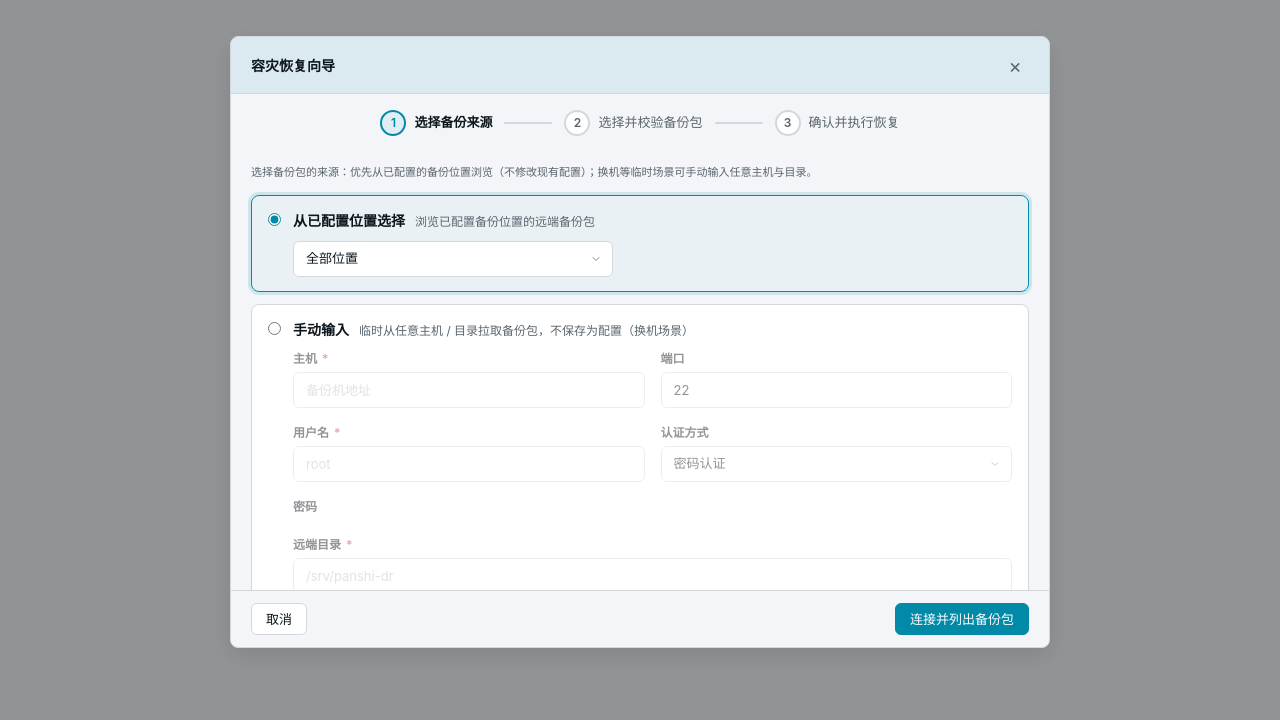
it: DbBackupRestoreWizard 备份来源（多目标） › 全部位置校验：多位置副本先弹来源选择（默认首项），确认后 verify 载荷从包的 present_in 解析具体位置 target_id（null 会 422）
The width and height of the screenshot is (1280, 720).
Click the button "连接并列出备份包": (962, 619) left=895, top=603, right=1029, bottom=635
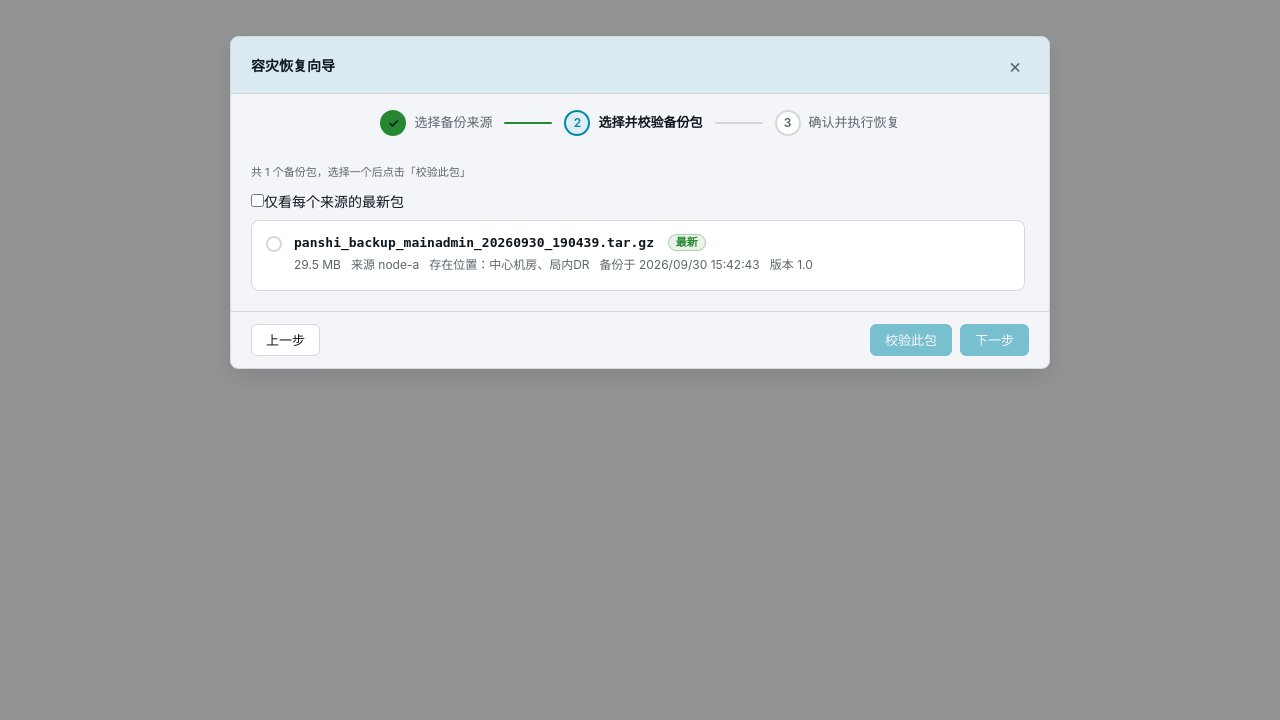
Click the radio button with class "dbw-pkg": (638, 255) left=251, top=220, right=1025, bottom=291
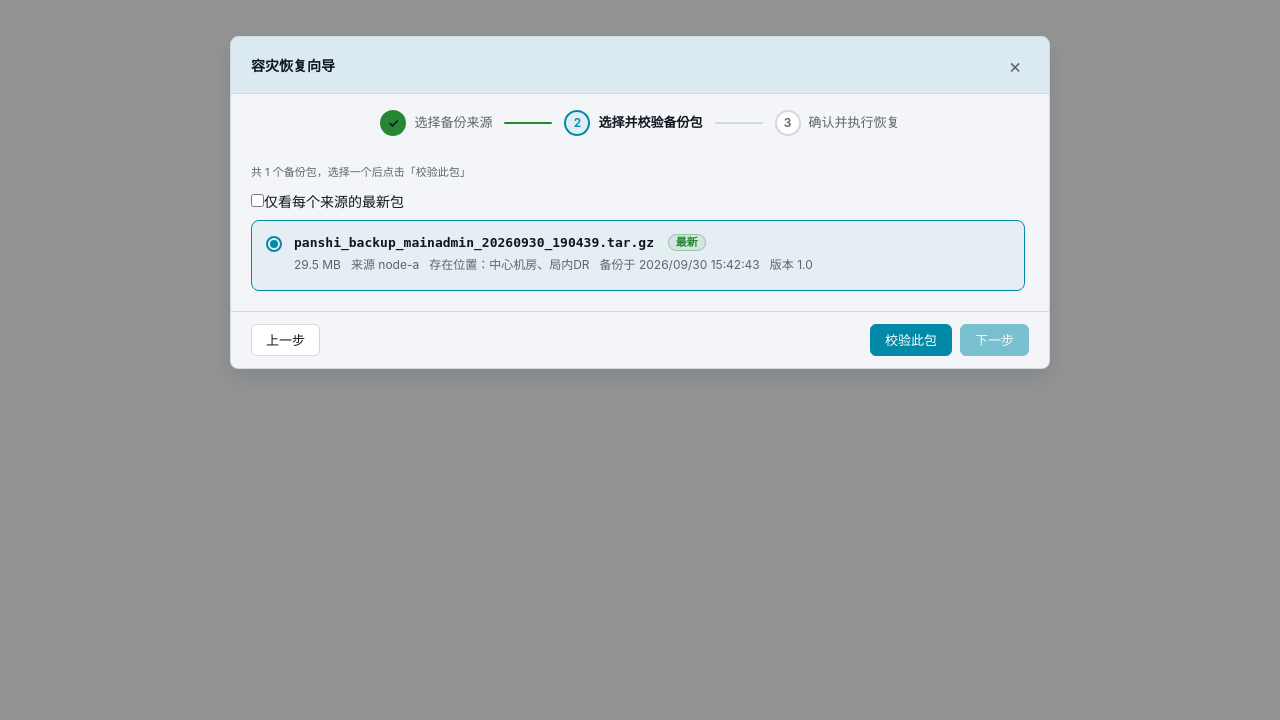
Click the button "校验此包": (911, 340) left=870, top=324, right=952, bottom=356
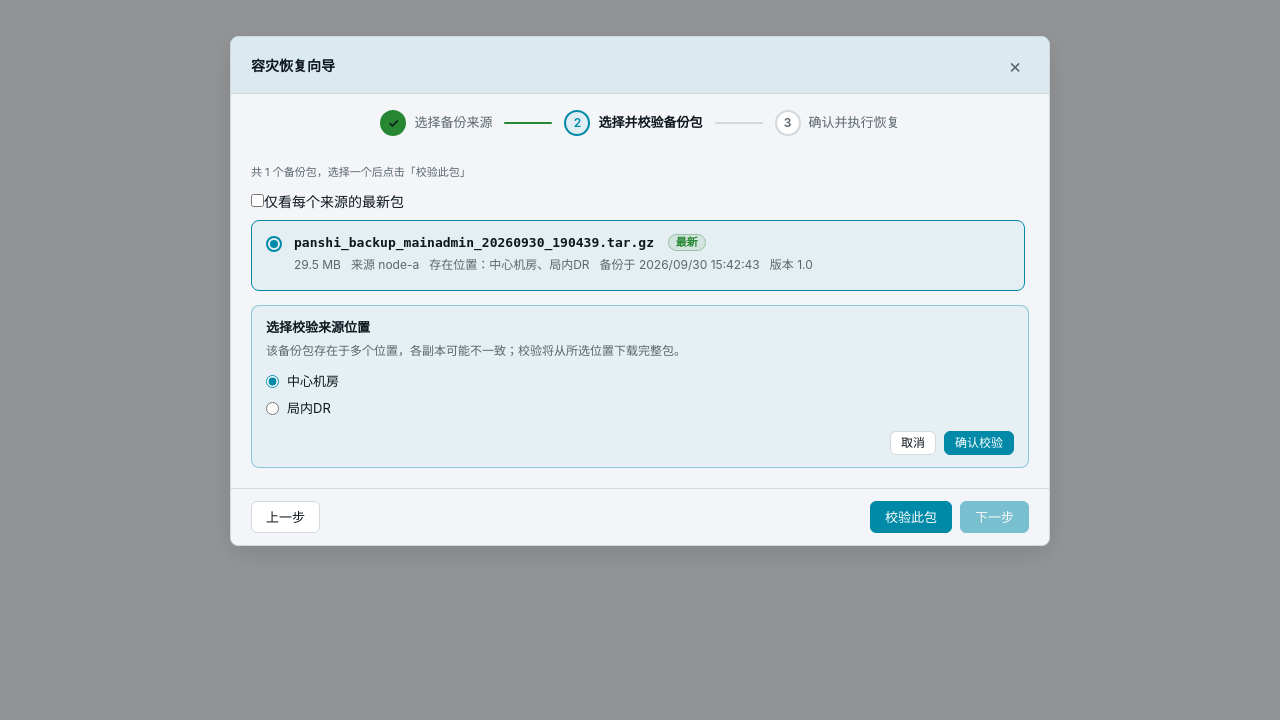
Result: the element with class "dbw-verify-chooser" is shown at left=251, top=305, right=1029, bottom=468
Result: the radio button labelled "中心机房" is checked at left=266, top=375, right=279, bottom=388
Click the button "确认校验": (979, 443) left=944, top=430, right=1014, bottom=455
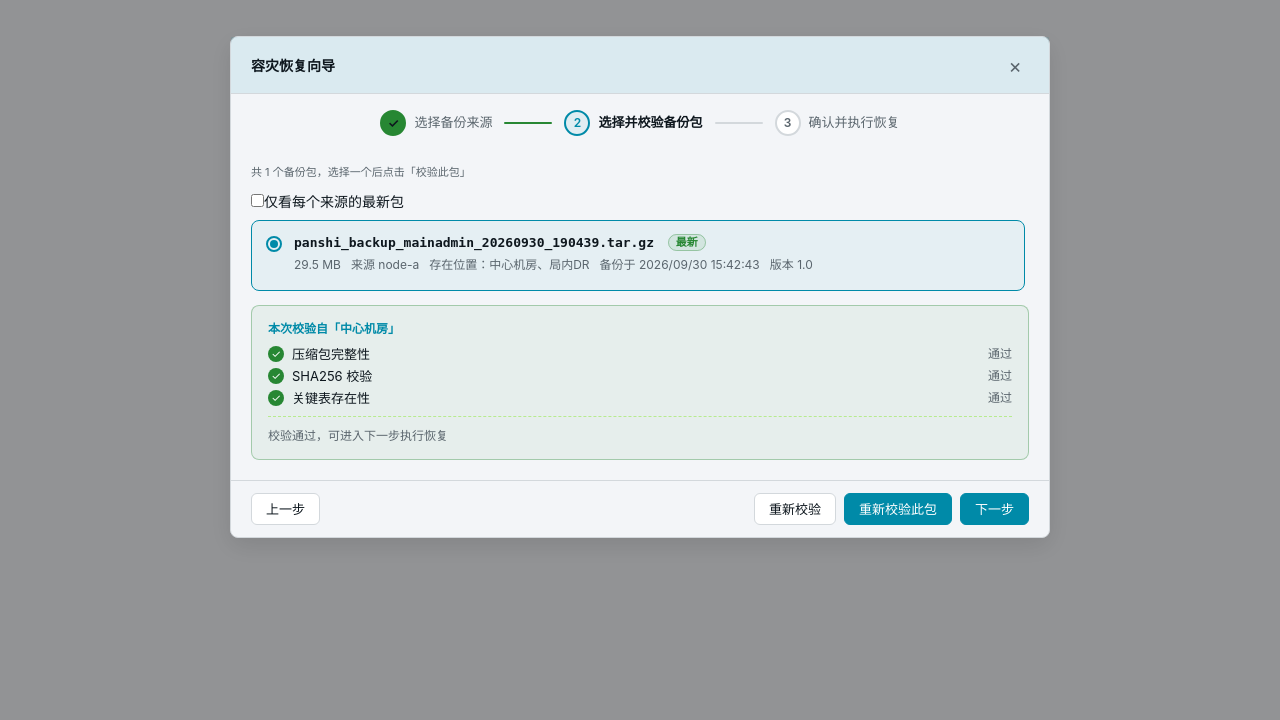
Result: the text with class "dbw-verify-src" reads "本次校验自「中心机房」" at left=268, top=321, right=400, bottom=336
